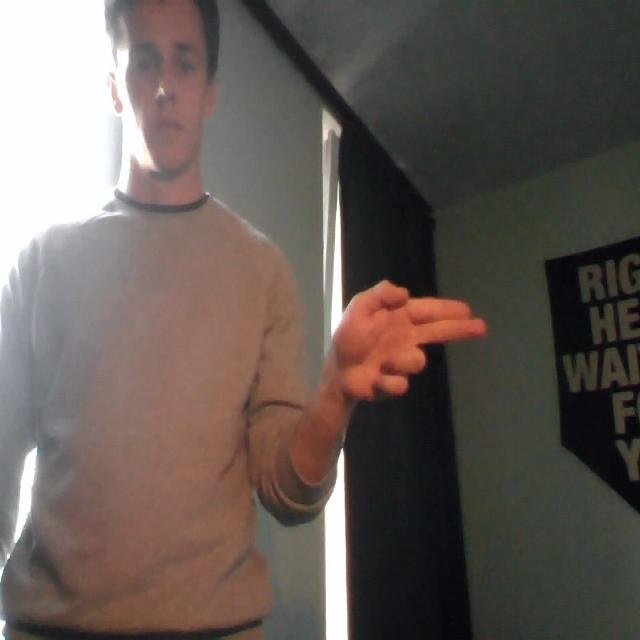right: (322, 277, 508, 418)
